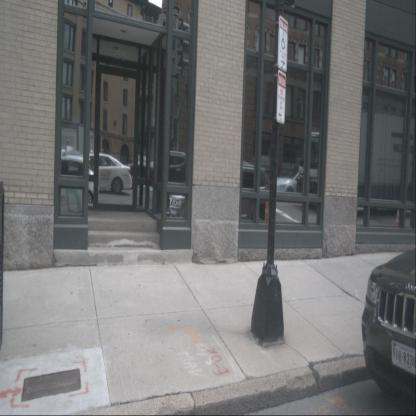movable_object-trafficcone: (263, 186, 272, 232), (395, 206, 401, 232)
vehicle-car: (207, 162, 275, 226), (38, 152, 98, 209), (68, 153, 132, 195), (271, 164, 320, 203)
vehicle-truck: (298, 107, 416, 219)
